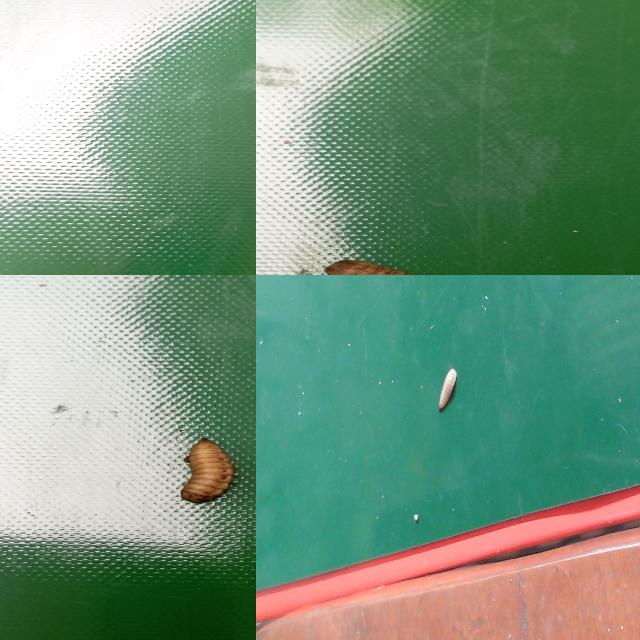Maggot: (181, 440, 236, 506), (324, 261, 412, 275), (436, 370, 458, 415)
